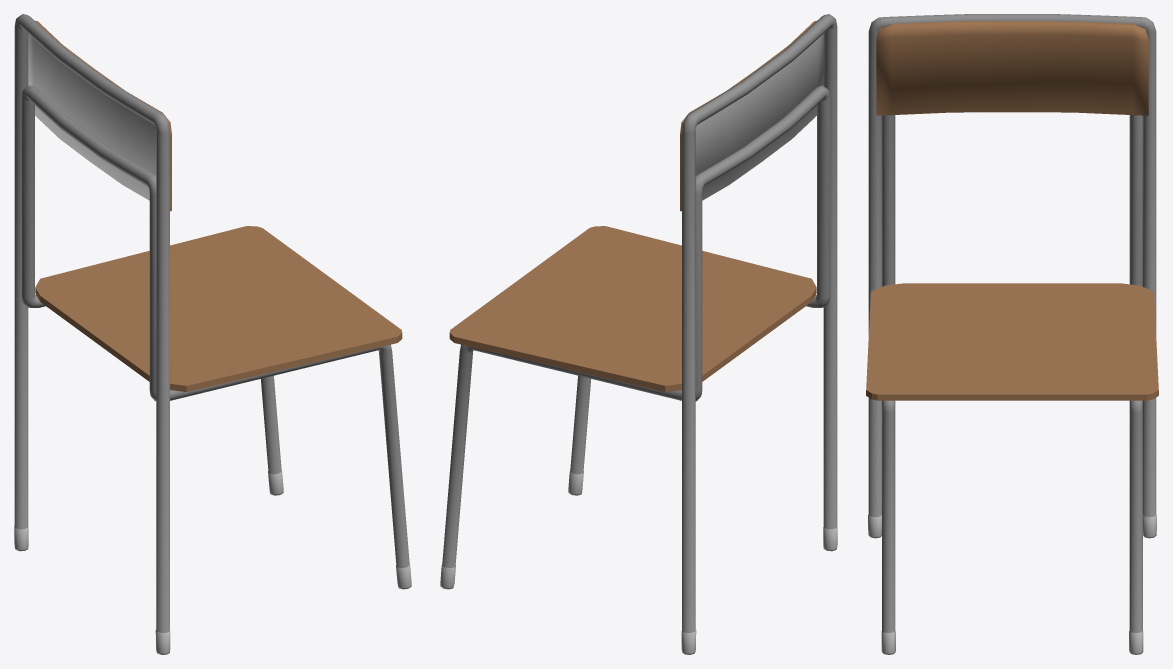
Rendered from SchoolChair.fbx.
The picture shows the model from 3 angles, left to right: view 1: azimuth 30°, elevation 25°; view 2: azimuth 150°, elevation 25°; view 3: azimuth 270°, elevation 25°; orthographic projection. The views are drawn at different scales.
Visible parts, largest first — view 1: Cube.001; view 2: Cube.001; view 3: Cube.001.
Part boxes in pixels (x1,y1,x2,y2): Cube.001: [14, 14, 411, 654]; Cube.001: [440, 14, 837, 654]; Cube.001: [866, 14, 1158, 654].
Size of the model in its own units: 266 by 510 by 261.
